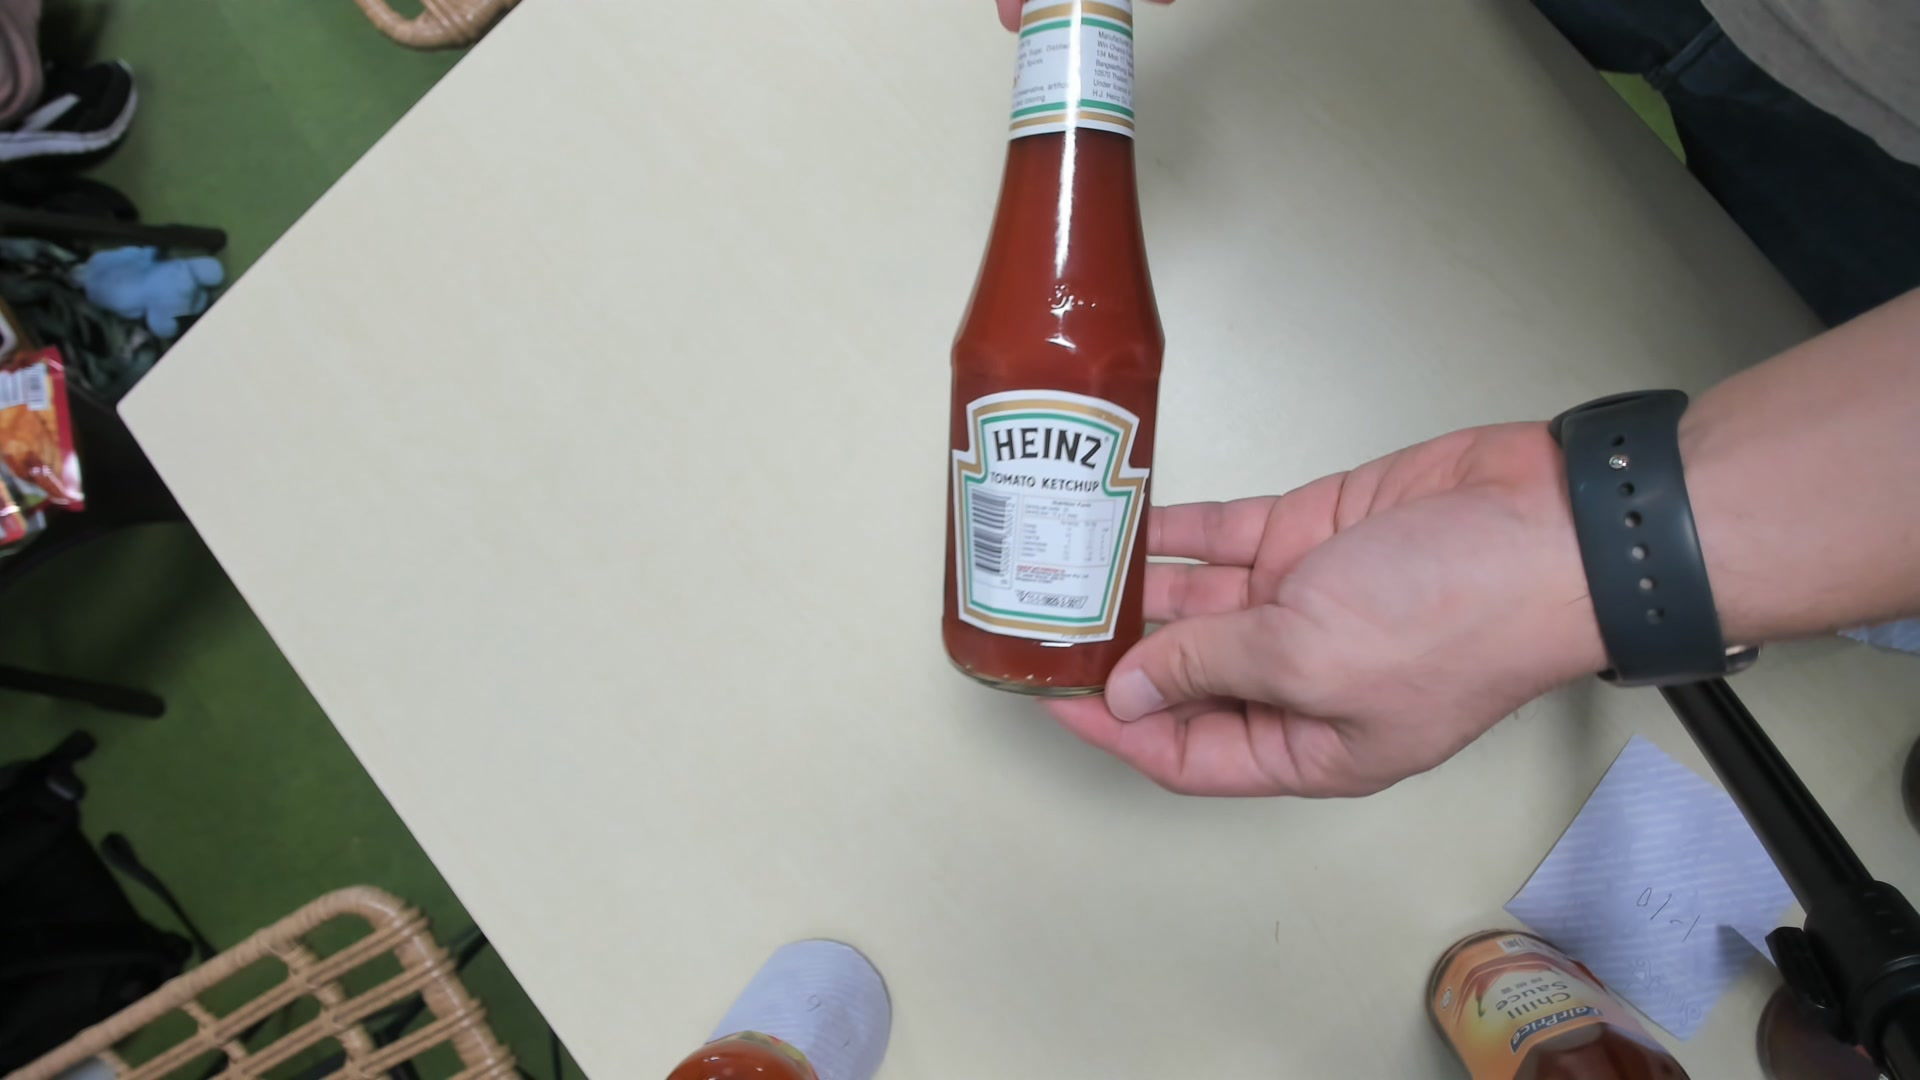KetchupChillSauce_300-399g_Halal_NonHealthy: (942, 11, 1163, 703)
